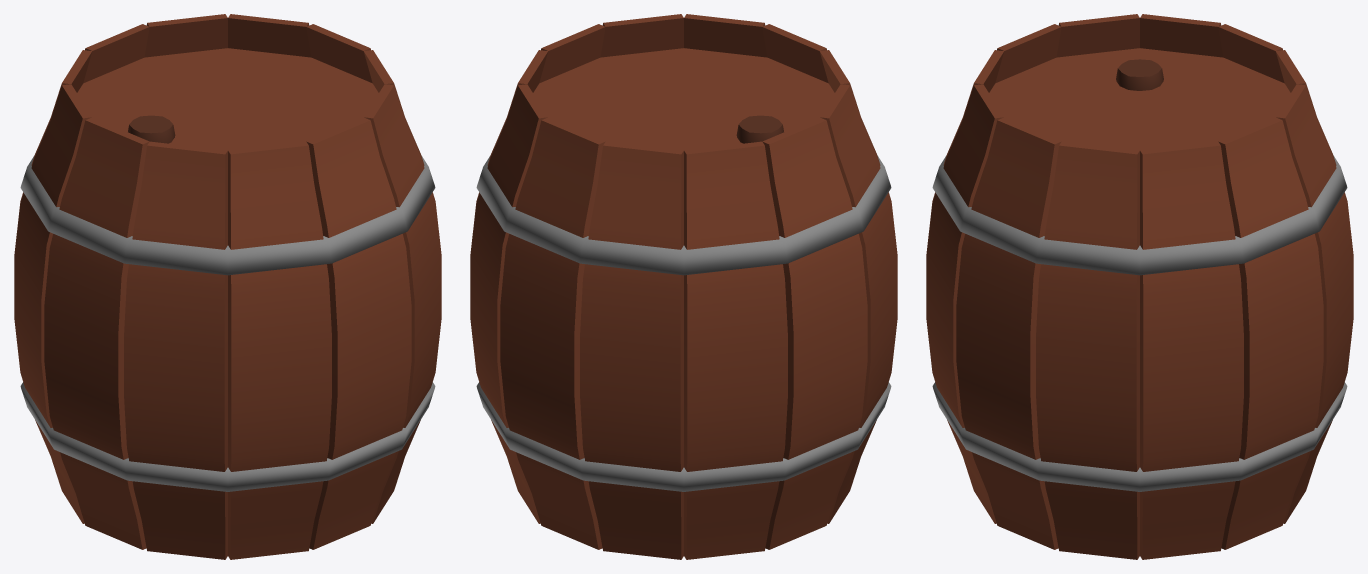
Rendered from Barrel.fbx.
3 views of the same model, side by side, from view 1: azimuth 30°, elevation 25°; view 2: azimuth 150°, elevation 25°; view 3: azimuth 270°, elevation 25° (orthographic).
Visible parts, largest first — view 1: Circle; view 2: Circle; view 3: Circle.
Part boxes in pixels (<box>): Circle: <box>14,14,441,559</box>; Circle: <box>470,14,897,559</box>; Circle: <box>926,14,1353,559</box>.
Size of the model in its own units: 193 by 202 by 193.
